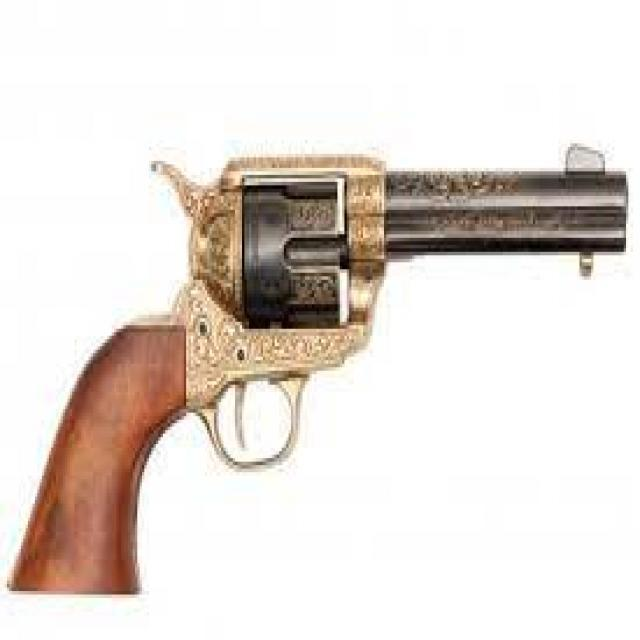revolver: (4, 48, 640, 640)
